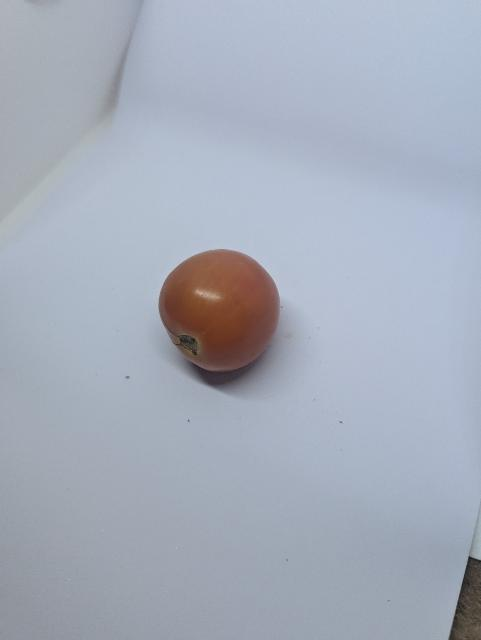red: (152, 241, 290, 384)
